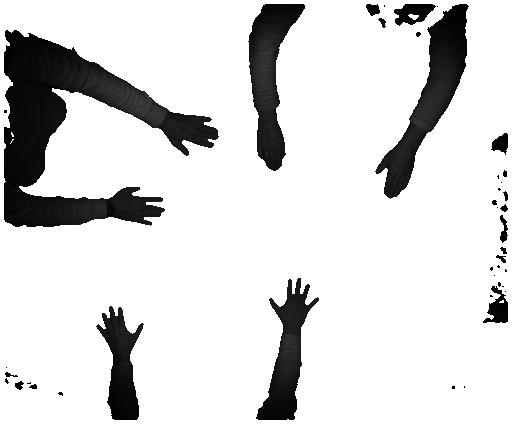hand: (368, 146, 423, 199), (271, 272, 319, 328), (169, 112, 223, 159), (96, 304, 143, 357), (116, 184, 167, 231), (256, 125, 287, 175)
